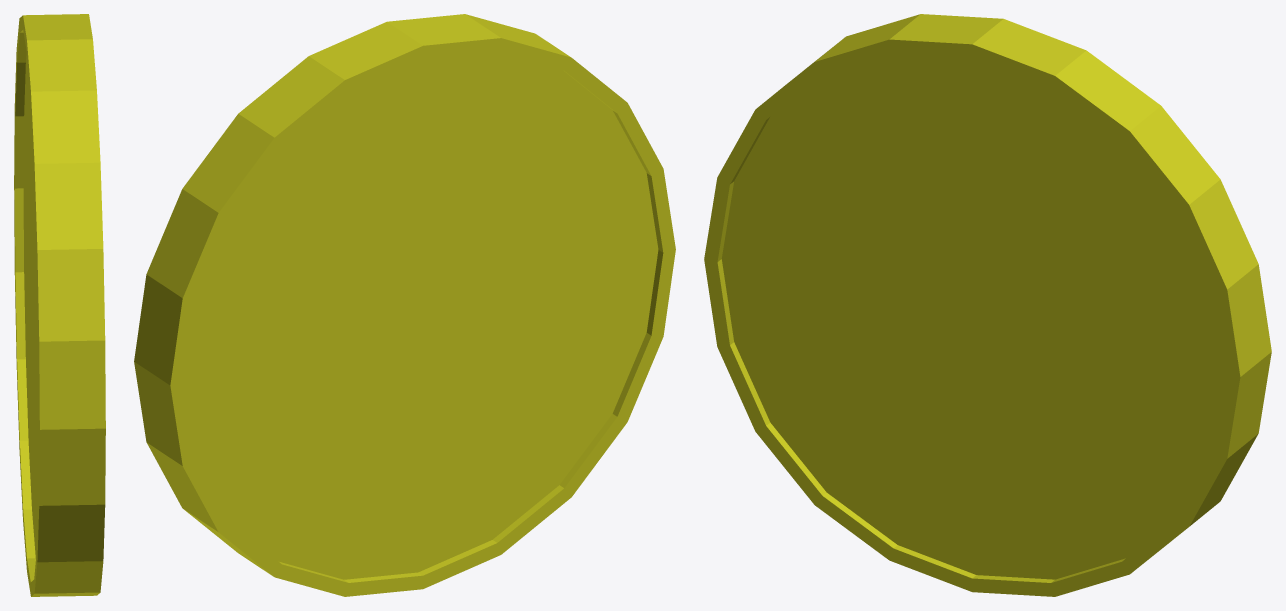
File: Low Poly Coin_000207.obj
The picture shows the model from 3 angles, left to right: view 1: azimuth 30°, elevation 25°; view 2: azimuth 150°, elevation 25°; view 3: azimuth 270°, elevation 25°; orthographic projection. The views are drawn at different scales.
Parts seen in each view (by area): view 1: Cylinder; view 2: Cylinder; view 3: Cylinder.
Part boxes in pixels (box(x1,y1,x2,y2)): Cylinder: box(14, 14, 105, 596); Cylinder: box(134, 14, 675, 596); Cylinder: box(704, 14, 1271, 596).
Bounding box in the file's own units: 1.12 × 2 × 1.88.
